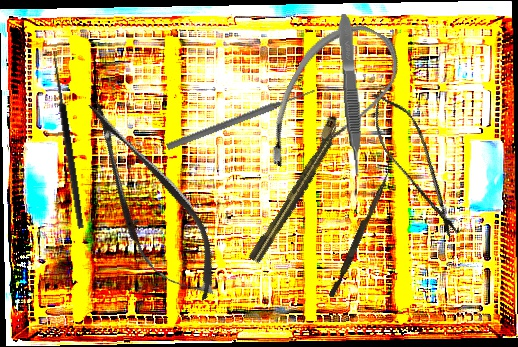Cannula: (252, 7, 411, 195)
Handpiece: (247, 119, 346, 265)
Hook Surgical: (41, 50, 86, 231)
Micro Scissor: (62, 85, 236, 317), (356, 78, 475, 249)
Pusher: (165, 86, 317, 152), (328, 169, 391, 300)
Tissue Forceps: (336, 13, 365, 178)
